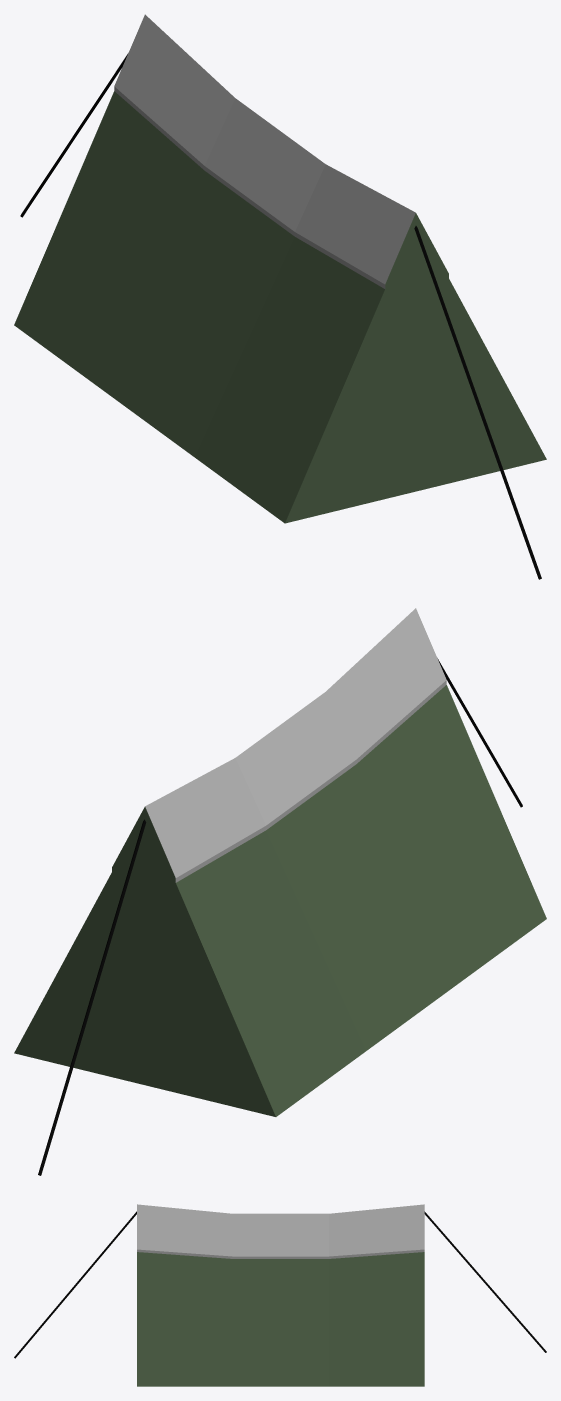
The model's file is Tend_1 winter.fbx.
3 views of the same model, one above another, from view 1: azimuth 30°, elevation 25°; view 2: azimuth 150°, elevation 25°; view 3: azimuth 270°, elevation 25° (orthographic). The views are drawn at different scales.
Parts seen in each view (by area): view 1: TendWinter_mesh; view 2: TendWinter_mesh; view 3: TendWinter_mesh.
Part boxes in pixels (bbox=[...]): TendWinter_mesh: bbox=[14, 14, 546, 579]; TendWinter_mesh: bbox=[14, 608, 546, 1175]; TendWinter_mesh: bbox=[14, 1204, 546, 1386].
Size of the model in its own units: 200 by 208 by 663.
